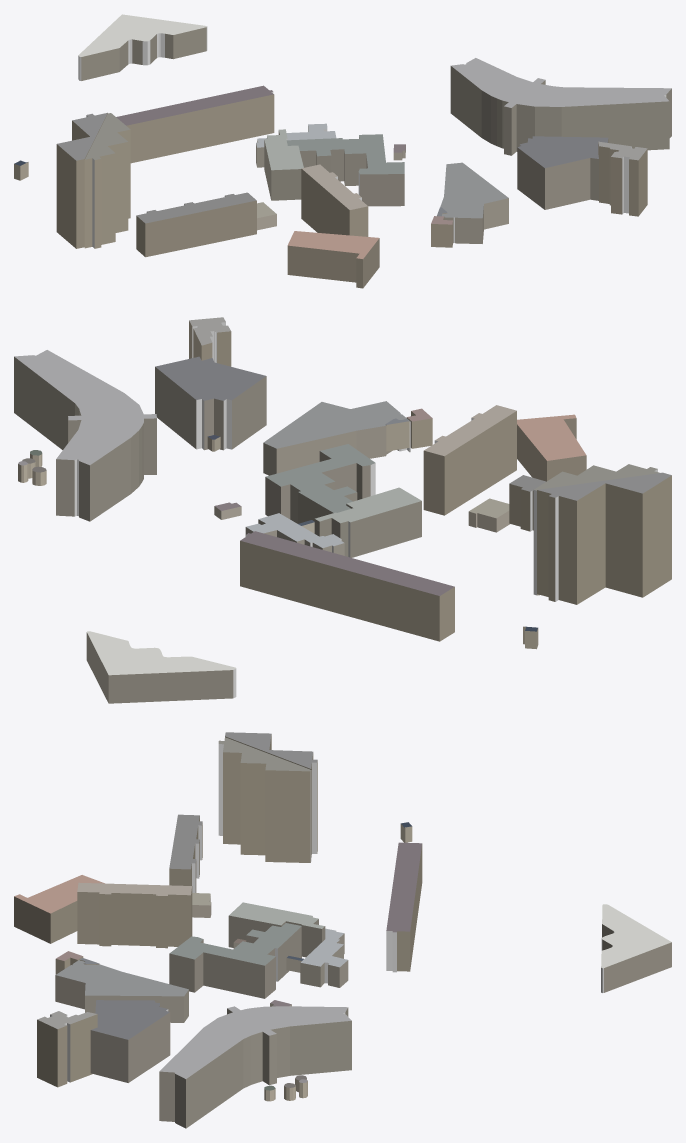
The picture shows the model from 3 angles, top to bottom: view 1: azimuth 30°, elevation 25°; view 2: azimuth 150°, elevation 25°; view 3: azimuth 270°, elevation 25°; orthographic projection. The views are drawn at different scales.
Parts seen in each view (by area): view 1: tuile; view 2: tuile; view 3: tuile.
Boxes of the visible parts, x1=… form: tuile: x1=14, y1=14, x2=671, y2=288; tuile: x1=14, y1=317, x2=671, y2=703; tuile: x1=14, y1=732, x2=671, y2=1128.
Bounding box in the file's own units: 292 × 50.32 × 279.
